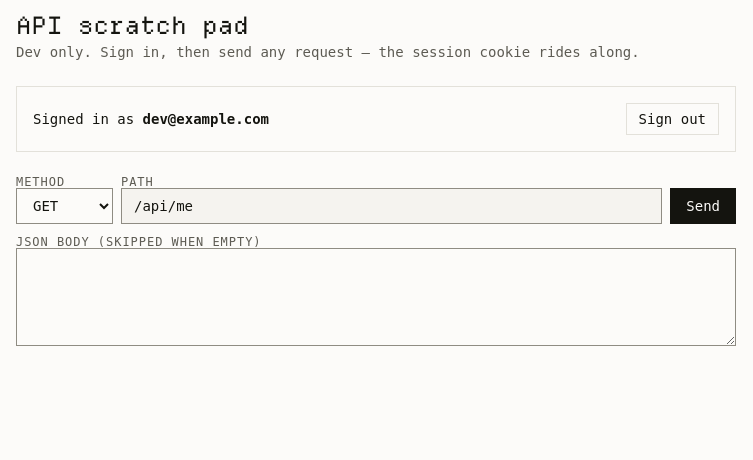
Test: shows a failed request instead of rendering nothing
Click the button "Send".
click(703, 206)  # box [670,188,736,224]
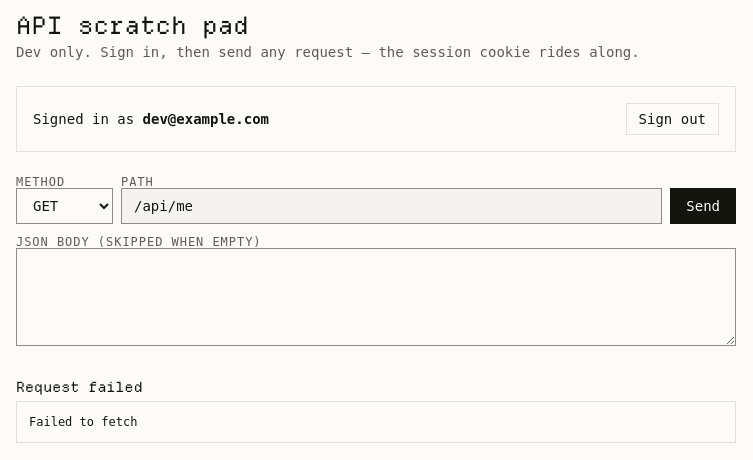
Now the heading "Request failed" is shown, box [16,378,143,396]
Now the text "Failed to fetch" is shown, box [16,401,736,443]
